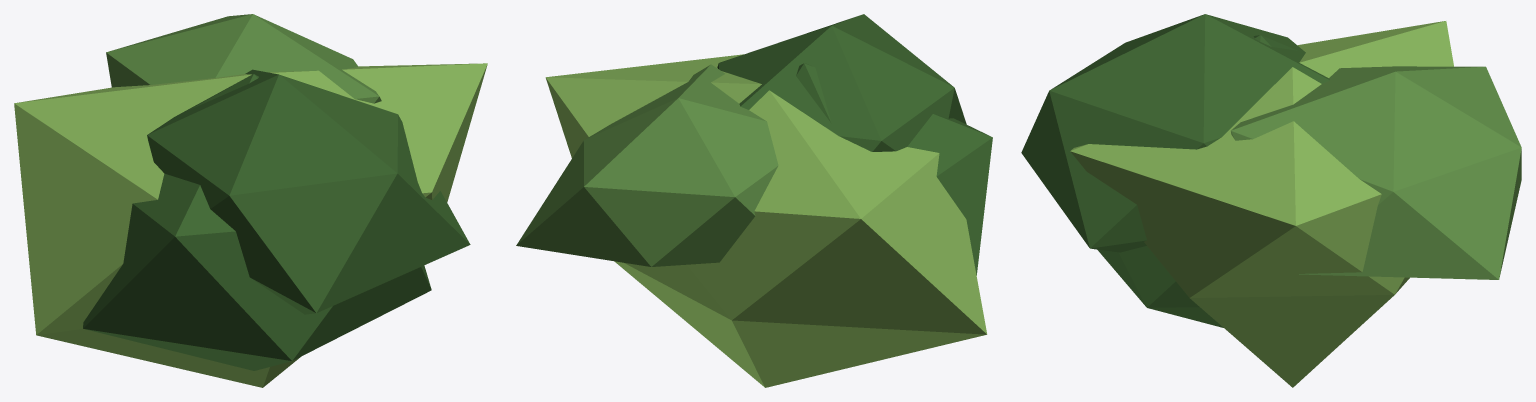
The model's file is jungle_bush.glb.
3 renders of one model, left to right at view 1: azimuth 30°, elevation 25°; view 2: azimuth 150°, elevation 25°; view 3: azimuth 270°, elevation 25°, orthographic. The views are drawn at different scales.
Parts seen in each view (by area): view 1: jungle_bush; view 2: jungle_bush; view 3: jungle_bush.
Part boxes in pixels (<box>): jungle_bush: <box>14,14,487,387</box>; jungle_bush: <box>516,14,992,387</box>; jungle_bush: <box>1021,14,1521,387</box>.
Bounding box in the file's own units: 2.19 × 1.61 × 2.03.
